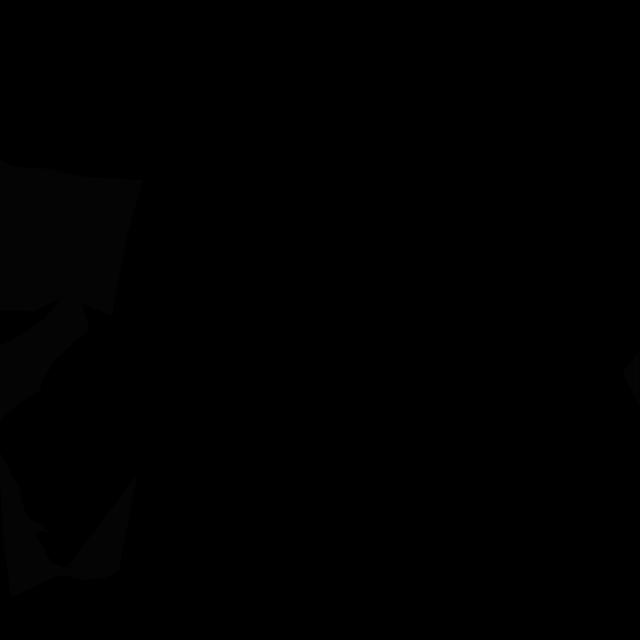soft_plastic: (0, 159, 143, 317), (623, 350, 640, 406)
